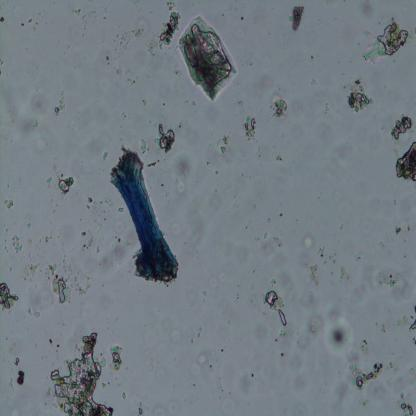Background material: (52, 331, 124, 416), (361, 18, 416, 62), (320, 305, 357, 356), (43, 261, 77, 306), (155, 0, 182, 51), (112, 20, 148, 58), (99, 234, 135, 272), (346, 74, 378, 114), (396, 136, 416, 192), (169, 148, 192, 195), (292, 314, 322, 350), (347, 361, 387, 386), (376, 267, 412, 294), (264, 290, 287, 327), (155, 122, 178, 151), (390, 115, 416, 139), (0, 280, 19, 312), (214, 130, 233, 161), (270, 94, 290, 121), (288, 3, 304, 36), (55, 171, 77, 193), (242, 115, 257, 143), (77, 230, 94, 254), (10, 235, 29, 256), (54, 92, 67, 116), (410, 297, 416, 347), (307, 264, 320, 287), (301, 236, 316, 251), (15, 370, 27, 387), (25, 305, 42, 316), (3, 195, 15, 208), (85, 196, 96, 210), (117, 205, 126, 213), (395, 226, 402, 235)
Cellulose filter fibre: (180, 14, 242, 102)
Cotton: (109, 146, 183, 284)
